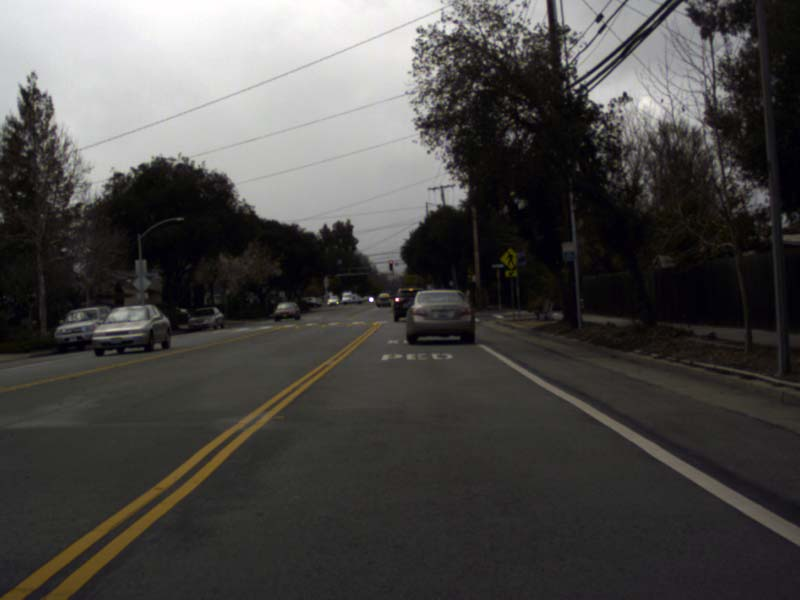Red: (389, 260, 392, 271)
